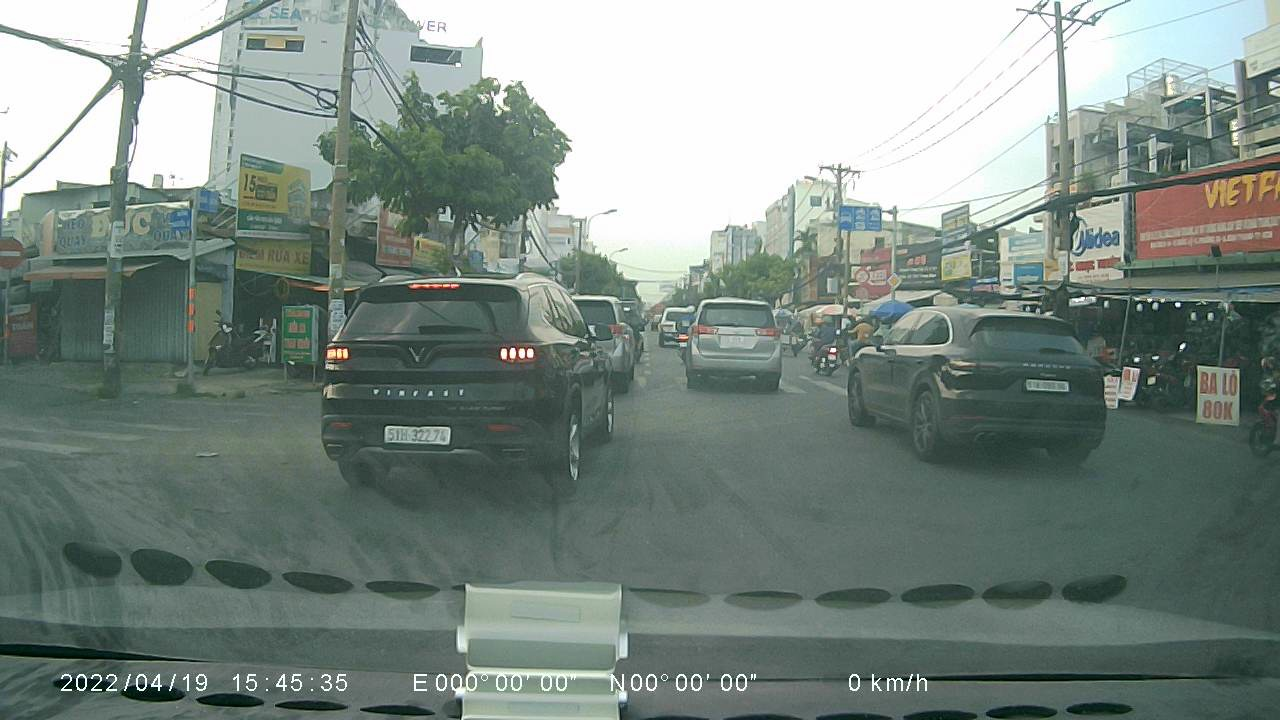Cam di nguoc chieu: (1, 235, 24, 271)
